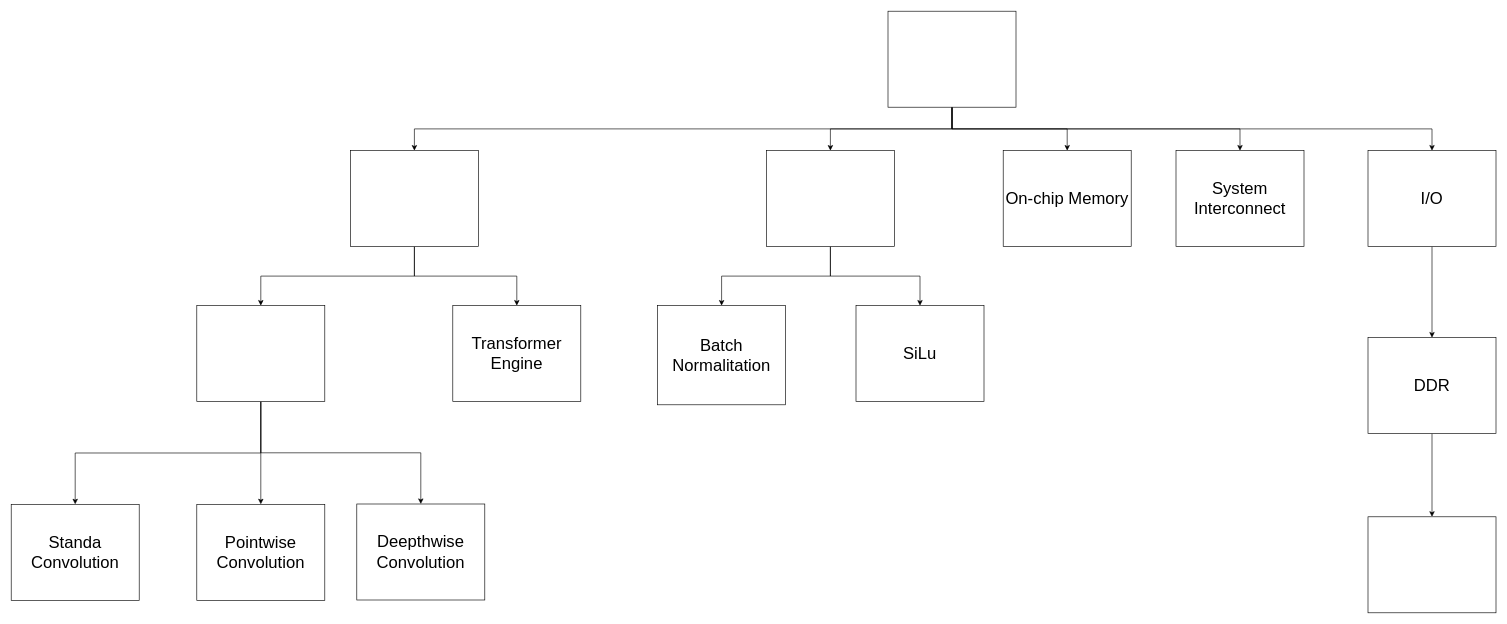
This 1507x624 diagram has some shape labels left out. Each missing label, with the centre of its shape:
AXI/ABH: (1431,564)
CNN Engine: (260,353)
Mobile ViT Accelerator: (951,59)
PE Array: (414,198)
Unlinear: (830,198)
